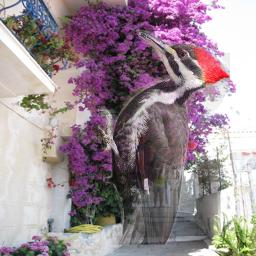Woodpecker: (98, 27, 230, 245)
